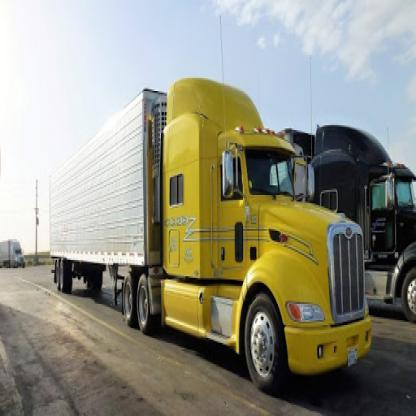normal-truck: (32, 83, 374, 414)
